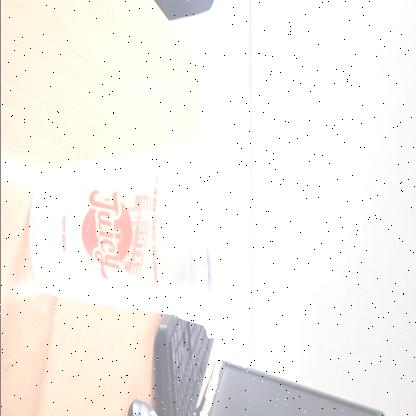Others: (29, 122, 221, 342)
